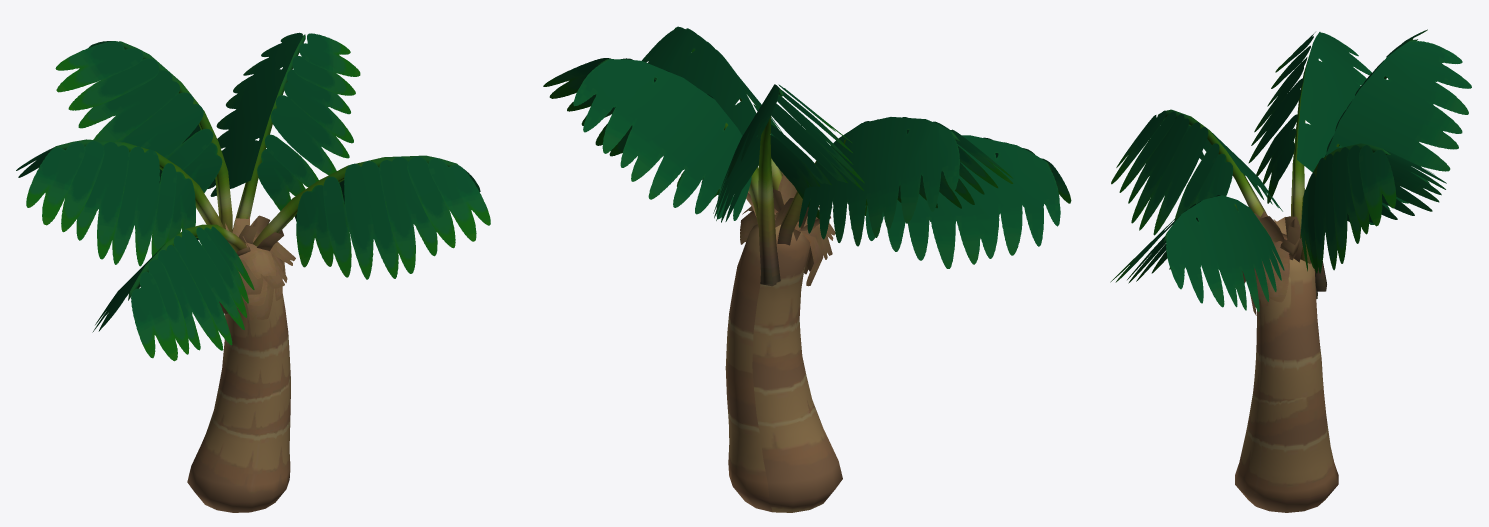
The model's file is palmTree.obj.
3 renders of one model, left to right at view 1: azimuth 30°, elevation 25°; view 2: azimuth 150°, elevation 25°; view 3: azimuth 270°, elevation 25°, orthographic. The views are drawn at different scales.
Visible parts, largest first — view 1: Object_8, Object_6; view 2: Object_8, Object_6; view 3: Object_8, Object_6.
Part boxes in pixels (x1,y1,x2,y2): Object_8: (16,32,490,361); Object_6: (187,215,295,512); Object_8: (543,26,1071,286); Object_6: (725,172,842,512); Object_8: (1110,29,1471,311); Object_6: (1235,211,1338,512).
Size of the model in its own units: 0.9017 by 0.941 by 0.6973.
